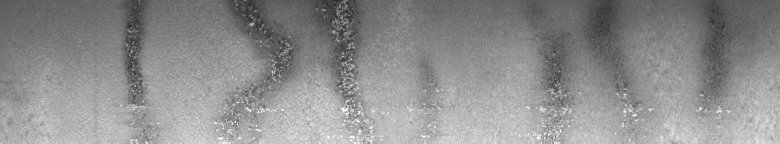hc: (214, 4, 368, 132)
